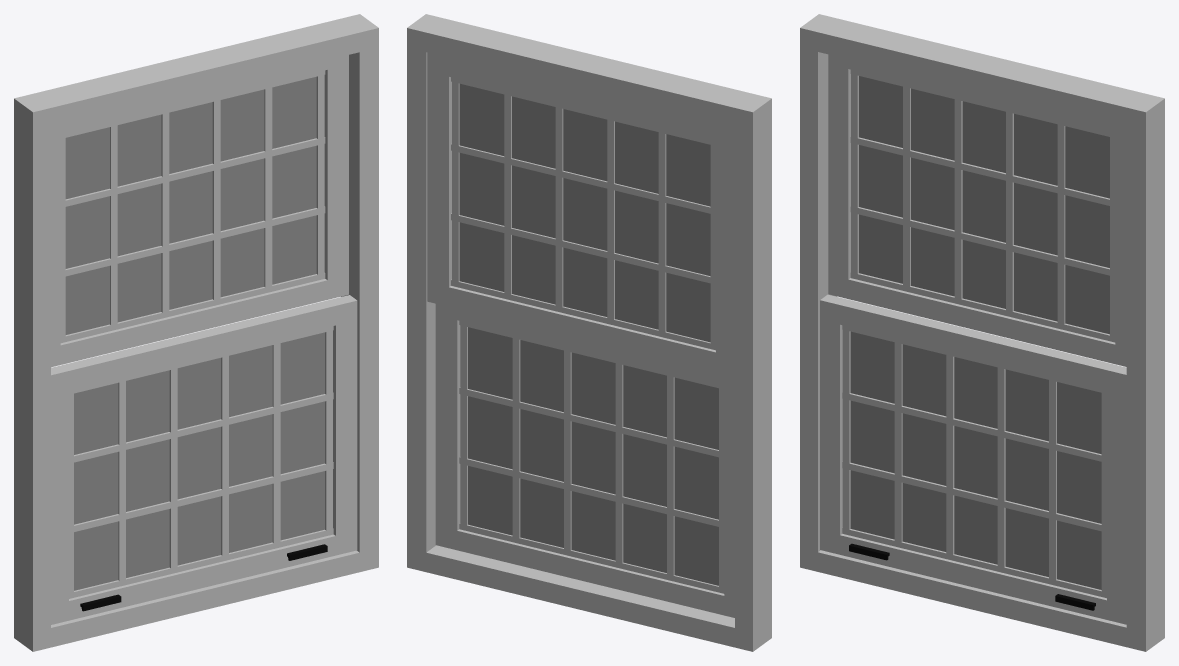
Rendered from Window 13.FBX.
3 views of the same model, side by side, from view 1: azimuth 30°, elevation 25°; view 2: azimuth 150°, elevation 25°; view 3: azimuth 330°, elevation 25° (orthographic).
Parts seen in each view (by area): view 1: window B, window A, window frame; view 2: window A, window B, window frame; view 3: window B, window A, window frame.
Boxes of the visible parts, x1,y1,x2,y2 form: window B: (51,295,357,624); window A: (51,55,348,367); window frame: (14,14,378,651); window A: (427,52,734,376); window B: (435,304,734,617); window frame: (407,14,771,651); window B: (820,294,1126,624); window A: (828,54,1126,366); window frame: (800,14,1164,651).
Bounding box in the file's own units: 126 × 187 × 12.37.
